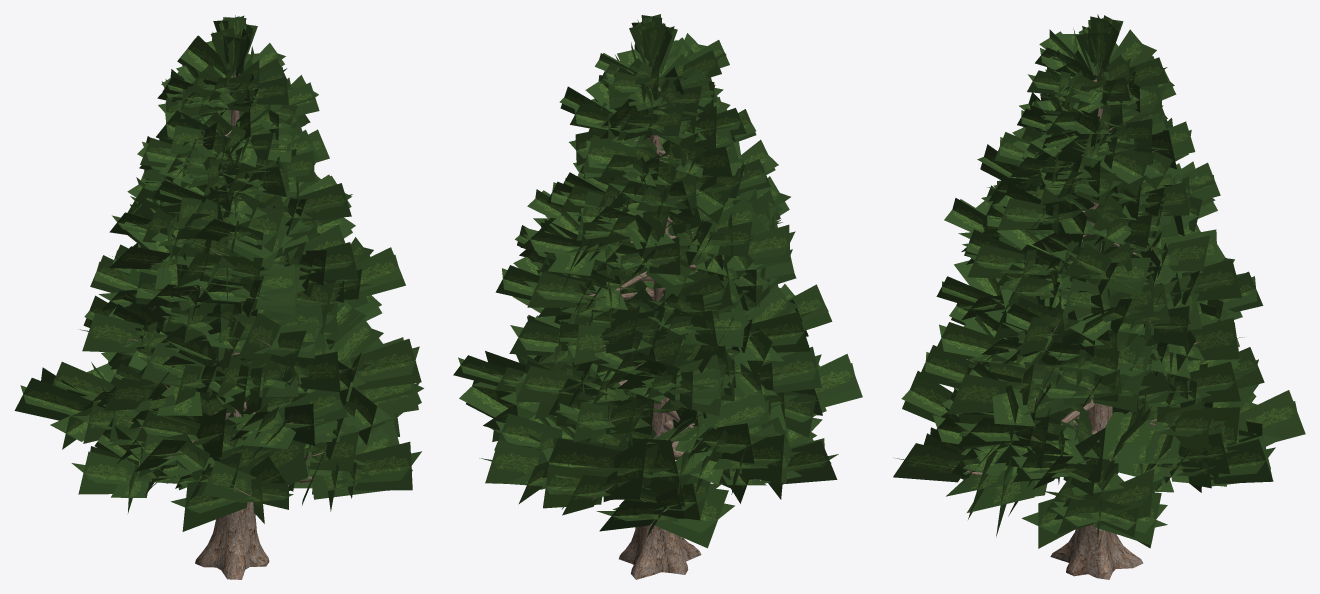
Rendered from pine.glb.
3 renders of one model, left to right at view 1: azimuth 30°, elevation 25°; view 2: azimuth 150°, elevation 25°; view 3: azimuth 270°, elevation 25°, orthographic.
Visible parts, largest first — view 1: Pine; view 2: Pine; view 3: Pine.
Boxes of the visible parts, bbox=[...] form: Pine: bbox=[14, 15, 423, 579]; Pine: bbox=[453, 14, 862, 579]; Pine: bbox=[893, 14, 1305, 579].
Bounding box in the file's own units: 5.09 × 7.2 × 4.94.
2 materials, 2 textured.
